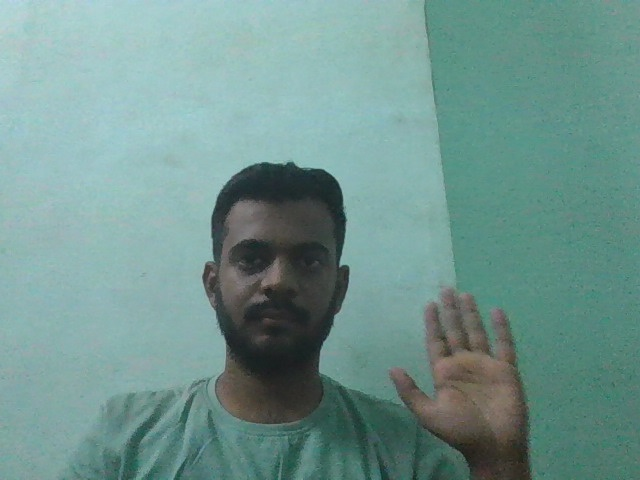hello: (354, 292, 595, 449)
